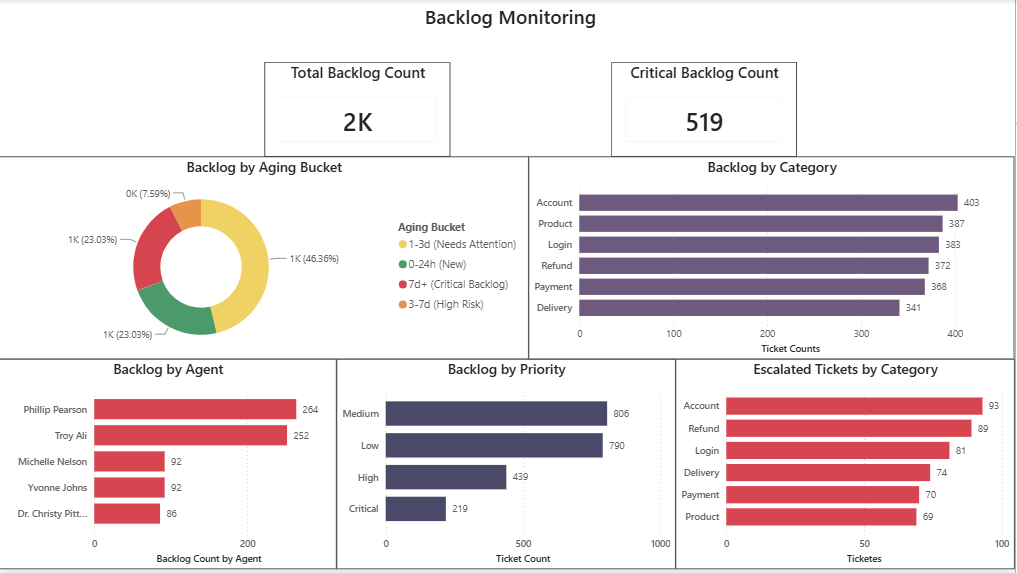

Layout of this report page (visuals, bound fields, positions):
{"tool":"powerbi","page":{"name":"Backlog Monitoring","canvas":[1280,720],"ordinal":3},"visuals":[{"type":"textbox","box":[9.4,0,1269.9,79.4],"z":0},{"type":"donutChart","title":"Backlog by Aging Bucket","fields":{"Category":["Backlog Summary.aging_bucket"],"Y":["Sum(Backlog Summary.ticket_count)"]},"box":[0,198.4,667.1,255.1],"z":1000},{"type":"barChart","title":"Backlog by Priority ","fields":{"Category":["Backlog Summary.priority"],"Y":["Sum(Backlog Summary.ticket_count)"]},"box":[425.2,453.5,427.1,264.6],"z":2000},{"type":"barChart","title":"Backlog by Category ","fields":{"Category":["Backlog Summary.category"],"Y":["Sum(Backlog Summary.ticket_count)"]},"box":[667.1,198.4,612.3,255.1],"z":3000},{"type":"clusteredBarChart","title":"Backlog by Agent","fields":{"Category":["Backlog.agent_name"],"Y":["Backlog.Backlog Count by Agent"]},"box":[0,453.5,425.2,264.6],"z":4000},{"type":"clusteredBarChart","title":"Escalated Tickets by Category","fields":{"Category":["Backlog.category"],"Y":["CountNonNull(Backlog.ticket_id)"]},"box":[852.3,453.5,427.1,264.6],"z":6000},{"type":"cardVisual","title":"Total Backlog Count","fields":{"Data":["Backlog Summary.Total Backlog Count"]},"box":[334.5,79.4,234.3,119.1],"z":7000},{"type":"cardVisual","title":"Critical Backlog Count","fields":{"Data":["Backlog.Critical Backlog Count"]},"box":[771,79.4,234.3,119.1],"z":8000}]}

Visuals, with their boxes in screenshot pixels (x1, y1, x2, y2), scaled from the page's 1280x720 canvas onto the 1017x573 screenshot:
textbox: 7:0:1016:63
"Backlog by Aging Bucket" donutChart: 0:158:530:361
"Backlog by Priority " barChart: 338:361:677:571
"Backlog by Category " barChart: 530:158:1016:361
"Backlog by Agent" clusteredBarChart: 0:361:338:571
"Escalated Tickets by Category" clusteredBarChart: 677:361:1016:571
"Total Backlog Count" cardVisual: 266:63:452:158
"Critical Backlog Count" cardVisual: 613:63:799:158
